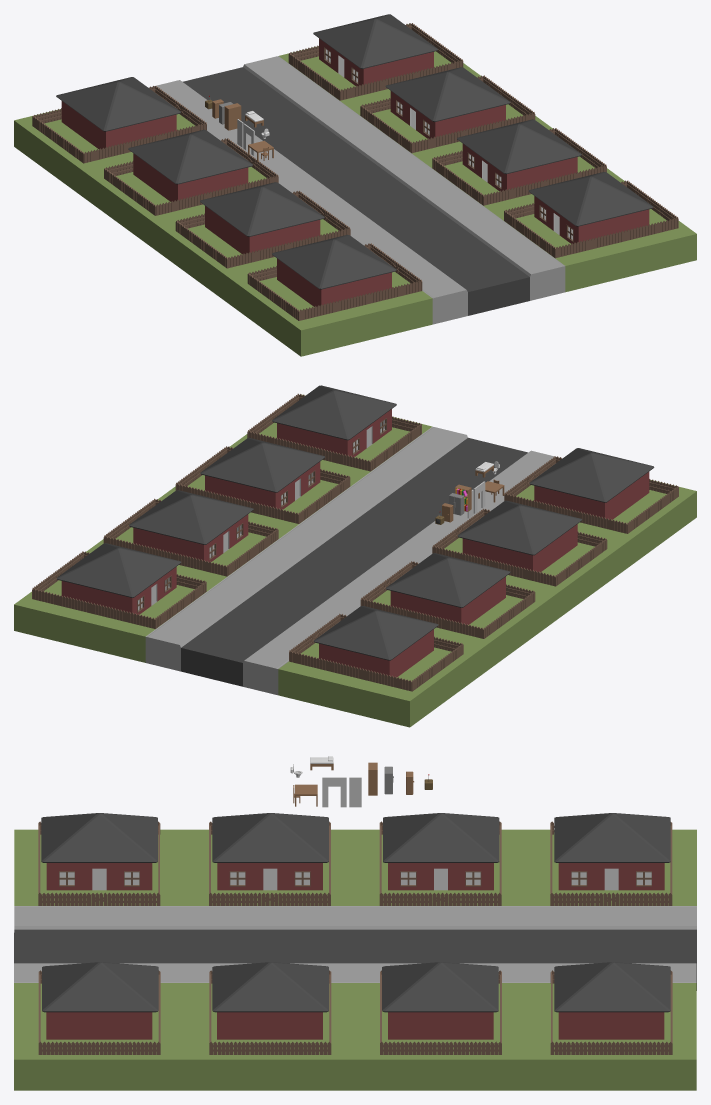
Rendered from House.fbx.
The picture shows the model from 3 angles, top to bottom: view 1: azimuth 30°, elevation 25°; view 2: azimuth 150°, elevation 25°; view 3: azimuth 270°, elevation 25°; orthographic projection. The views are drawn at different scales.
Visible parts, largest first — view 1: Fence.001, Roof.002, Roof.007, Roof.005, Roof.003, Roof.001, Roof.006, Roof, Roof.004; view 2: Fence.001, Roof.001, Roof.007, Roof.005, Roof.004, Roof.003, Roof.002, Roof, Roof.006; view 3: Fence.001, Roof.005, Roof.004, Roof.006, Roof.007, Roof.003, Roof.001, Roof, Roof.002, Doorway.
Boxes of the visible parts, box(x1,y1,x2,y2) form: Fence.001: box(14, 23, 696, 356); Roof.002: box(128, 129, 253, 184); Roof.007: box(528, 172, 653, 226); Roof.005: box(385, 67, 510, 121); Roof.003: box(56, 77, 180, 131); Roof.001: box(200, 182, 324, 236); Roof.006: box(457, 119, 581, 174); Roof: box(272, 234, 396, 289); Roof.004: box(313, 14, 437, 68); Fence.001: box(14, 393, 696, 727); Roof.001: box(457, 500, 582, 555); Roof.007: box(272, 385, 396, 440); Roof.005: box(129, 490, 253, 544); Roof.004: box(56, 543, 181, 597); Roof.003: box(314, 606, 438, 660); Roof.002: box(386, 553, 510, 607); Roof: box(529, 448, 654, 502); Roof.006: box(200, 438, 324, 492); Fence.001: box(14, 821, 696, 1090); Roof.005: box(382, 962, 498, 1012); Roof.004: box(554, 962, 670, 1012); Roof.006: box(212, 962, 328, 1012); Roof.007: box(42, 962, 158, 1012); Roof.003: box(554, 813, 670, 862); Roof.001: box(212, 813, 328, 862); Roof: box(41, 813, 157, 862); Roof.002: box(383, 813, 499, 862); Doorway: box(322, 777, 346, 807).
Size of the model in its own units: 8899 by 2730 by 11177.
